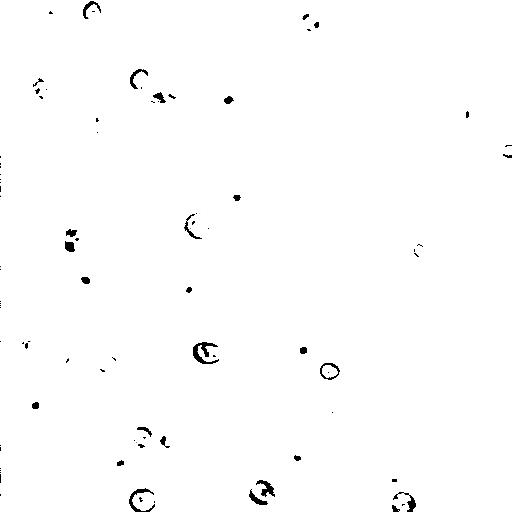micro-algae: (47, 86, 152, 189), (56, 403, 138, 484), (111, 394, 173, 458), (219, 415, 281, 473), (70, 105, 129, 162), (48, 254, 106, 300), (471, 454, 512, 503), (357, 75, 398, 118), (294, 2, 331, 43), (151, 37, 188, 74), (178, 433, 215, 469), (183, 212, 216, 245), (160, 70, 191, 105), (19, 390, 54, 421), (486, 23, 511, 65), (445, 98, 477, 129), (391, 0, 449, 17), (33, 1, 64, 32), (305, 401, 342, 426), (246, 479, 278, 506), (174, 273, 202, 302), (152, 429, 182, 456), (30, 75, 58, 103), (286, 337, 315, 364), (384, 464, 408, 496), (54, 236, 84, 261), (81, 114, 108, 141), (12, 332, 38, 360), (192, 342, 224, 364), (129, 487, 157, 512), (94, 352, 120, 378), (111, 451, 138, 476), (50, 346, 76, 371), (129, 425, 154, 450), (390, 490, 418, 511), (218, 90, 242, 114), (129, 66, 153, 90), (82, 0, 103, 23), (262, 96, 284, 117), (59, 225, 86, 242), (412, 240, 434, 260), (319, 361, 341, 381), (0, 452, 11, 492), (289, 446, 306, 466), (443, 78, 459, 95), (501, 143, 512, 158), (230, 192, 245, 203)
